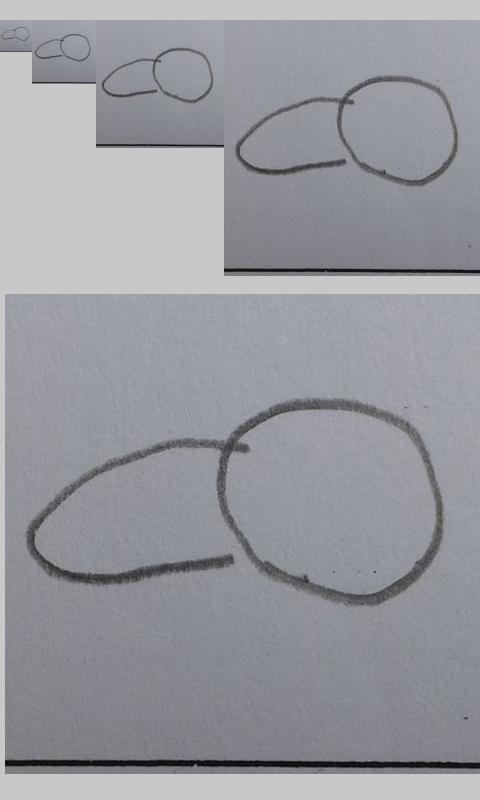switch: (24, 397, 449, 610), (233, 75, 459, 188), (101, 47, 214, 104), (34, 33, 91, 62), (1, 26, 31, 41)
